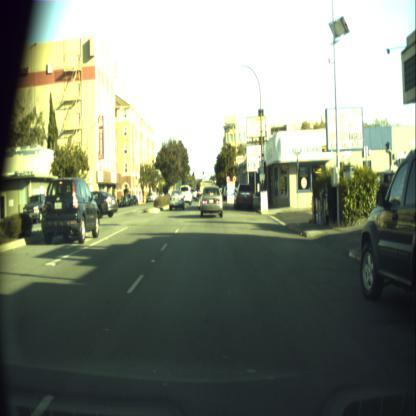Green: (202, 171, 204, 175)
